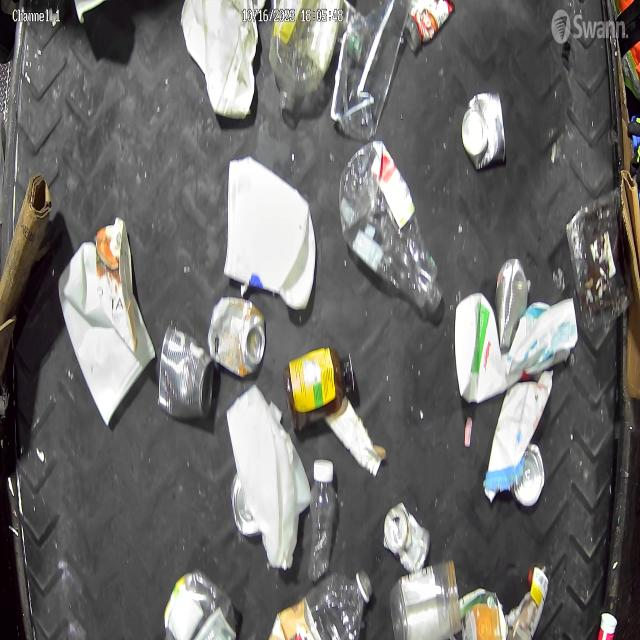can: (158, 320, 213, 420), (207, 294, 264, 374), (464, 83, 507, 178), (495, 255, 529, 349), (382, 505, 429, 566)
milk_jug: (225, 383, 309, 567)
plastic_bottle: (339, 139, 442, 311), (273, 567, 370, 636), (308, 458, 337, 570)
